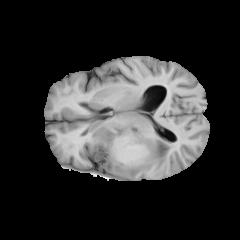glioma: (82, 117, 172, 177)
